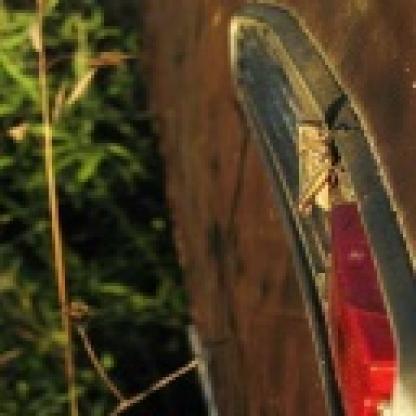grasshopper: (292, 120, 340, 220)
